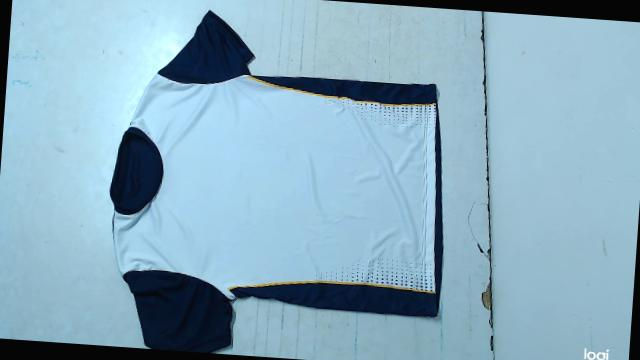new-garment: (110, 11, 442, 352)
